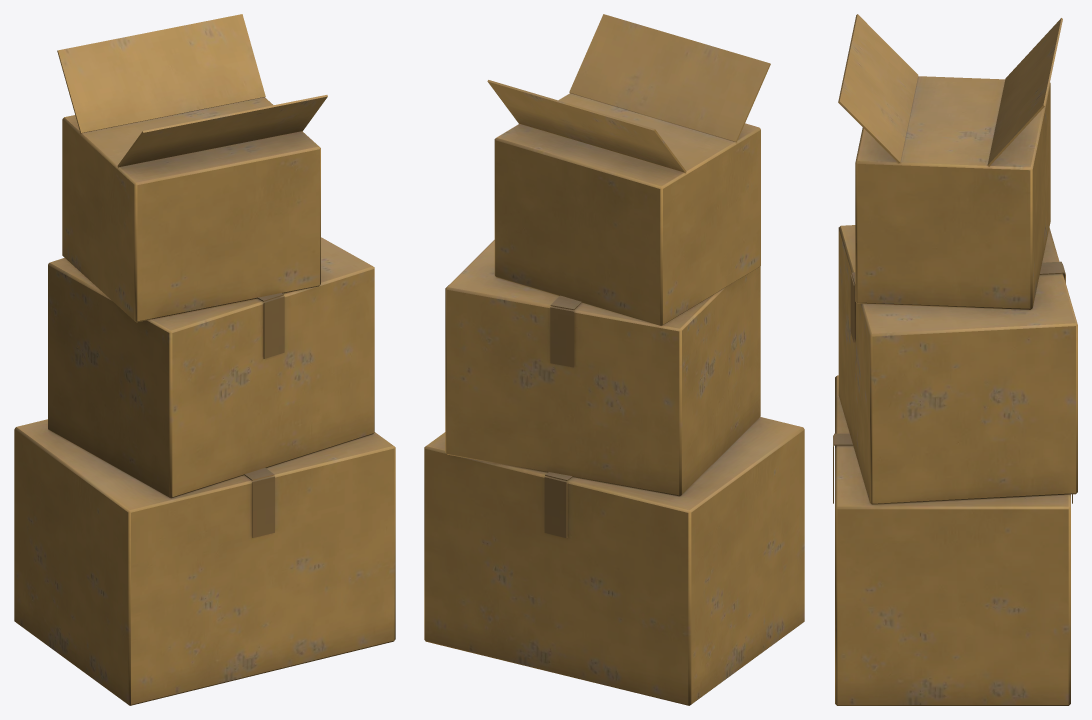
File: boxes_stack.glb
3 renders of one model, left to right at view 1: azimuth 30°, elevation 25°; view 2: azimuth 150°, elevation 25°; view 3: azimuth 270°, elevation 25°, orthographic.
Visible parts, largest first — view 1: boxes_stack; view 2: boxes_stack; view 3: boxes_stack.
Part boxes in pixels (x1,y1,x2,y2): boxes_stack: (14, 14, 395, 705); boxes_stack: (424, 14, 804, 705); boxes_stack: (833, 14, 1077, 705).
Size of the model in its own units: 0.6 by 1.21 by 0.4675.
1 material, 1 textured.
